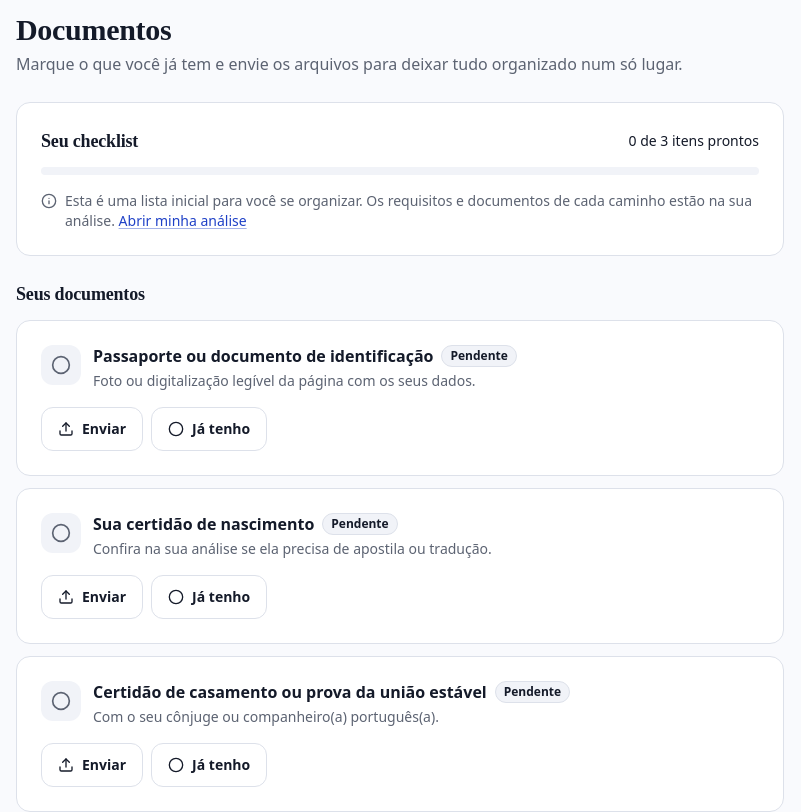
Test: DocumentsPage — lista por caminho › "Já tenho" marca o item e conta no progresso
Step 1. Click the button with test id "doc-have-assento_nascimento" → (209, 597), box left=151, top=575, right=267, bottom=619
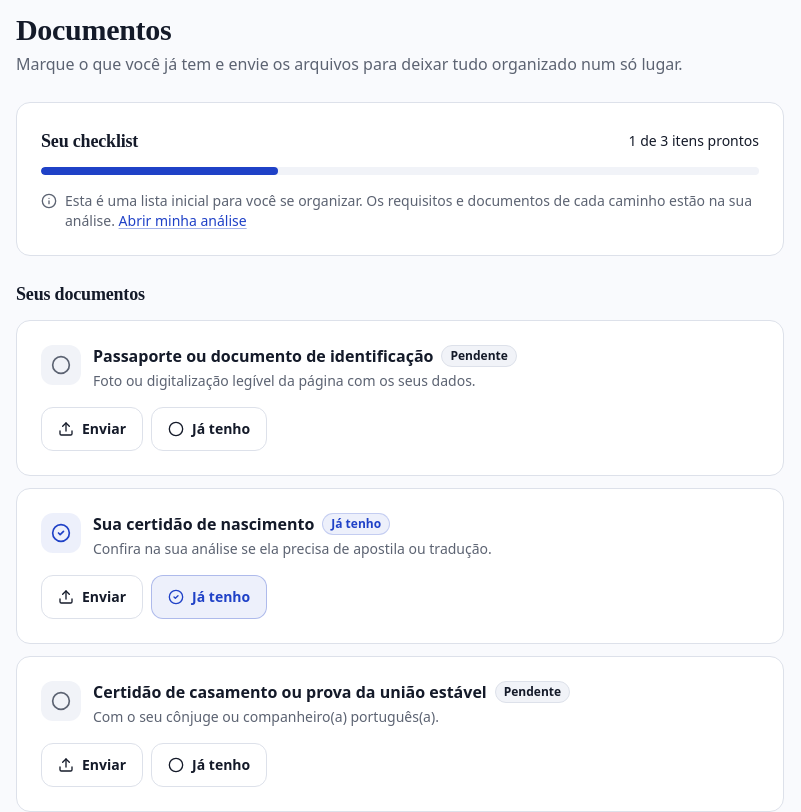
Expected: the text with test id "documents-progress" shows "1 de 3", left=628, top=131, right=759, bottom=151
